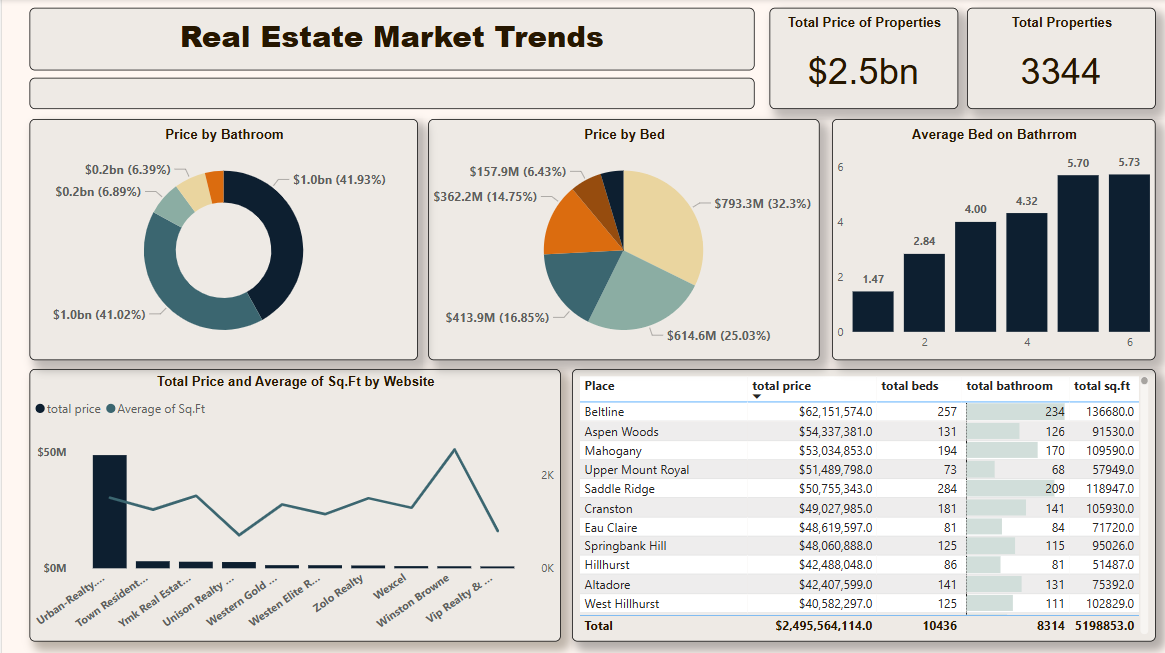

This screenshot's page, from the dashboard's own definition file:
{"tool":"powerbi","page":{"name":"Page 1","canvas":[1280,720],"ordinal":0},"visuals":[{"type":"card","title":"Total Price of Properties","fields":{"Values":["Sheet1.total price"]},"box":[842.5,9.6,207.2,111.1],"z":0},{"type":"card","title":"Total Properties","fields":{"Values":["Sheet1.total properties"]},"box":[1059.4,9.6,207.2,111.1],"z":1000},{"type":"lineStackedColumnComboChart","title":"Total Price and Average of Sq.Ft by Website","fields":{"Category":["Sheet1.Website"],"Y":["Sheet1.total price"],"Y2":["Avg(Sheet1.Sq.Ft)"]},"box":[30.2,406.2,583.2,299.1],"z":2000},{"type":"tableEx","fields":{"Values":["Sheet1.Place","Sheet1.total price","Sheet1.total beds","Sheet1.total bathroom","Sheet1.total sq.ft"]},"box":[625.7,406.2,640.8,299.1],"z":3000},{"type":"pieChart","title":"Price by Bed","fields":{"Category":["Sheet1.Beds"],"Y":["Sheet1.total price"]},"box":[467.9,131.7,429.5,264.8],"z":4000},{"type":"donutChart","title":"Price by Bathroom","fields":{"Category":["Sheet1.Bathroom"],"Y":["Sheet1.total price"]},"box":[30.2,131.7,426.8,264.8],"z":5000},{"type":"clusteredColumnChart","title":"Average Bed on Bathrrom","fields":{"Y":["Avg(Sheet1.Beds)"],"Category":["Sheet1.Bathroom"]},"box":[911.2,131.7,355.4,264.8],"z":6000},{"type":"textbox","box":[30.2,9.6,795.9,111.1],"z":7000}]}

Visuals, with their boxes in screenshot pixels (x1, y1, x2, y2), scaled from the page's 1280x720 canvas onto the 1165x653 screenshot:
"Total Price of Properties" card: <box>767,9,955,109</box>
"Total Properties" card: <box>964,9,1153,109</box>
"Total Price and Average of Sq.Ft by Website" lineStackedColumnComboChart: <box>27,368,558,640</box>
tableEx - Sheet1.Place x Sheet1.total price: <box>569,368,1153,640</box>
"Price by Bed" pieChart: <box>426,119,817,360</box>
"Price by Bathroom" donutChart: <box>27,119,416,360</box>
"Average Bed on Bathrrom" clusteredColumnChart: <box>829,119,1153,360</box>
textbox: <box>27,9,752,109</box>
